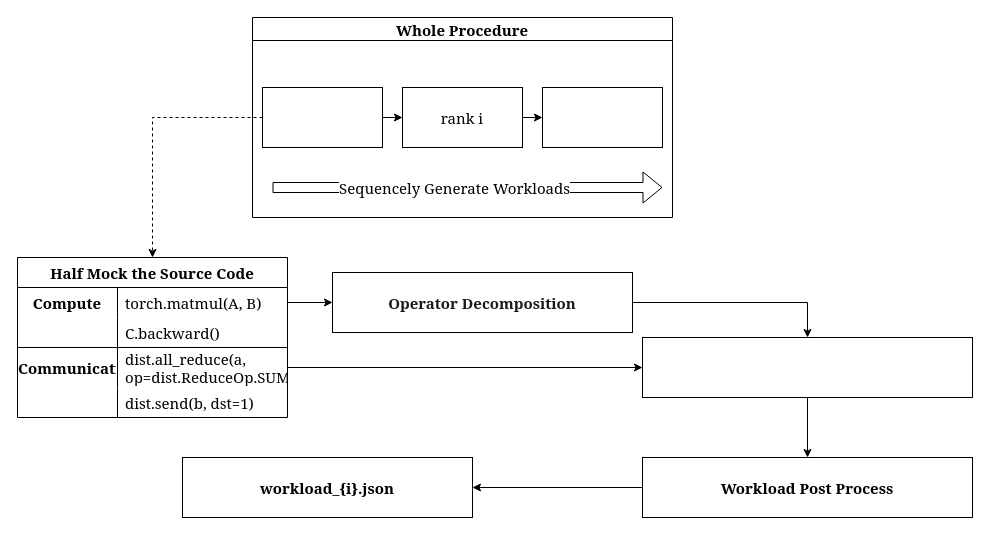
Image size: 990x535. Some labels were removed from this diagram. The shapes that lost their labels are listed below. From the top down, each one's centre as x and y in pixels, then its label:
At (x=322, y=117): "rank 0".
At (x=602, y=117): "rank (n-1)".
At (x=807, y=367): "Virtual Workload Generation".
